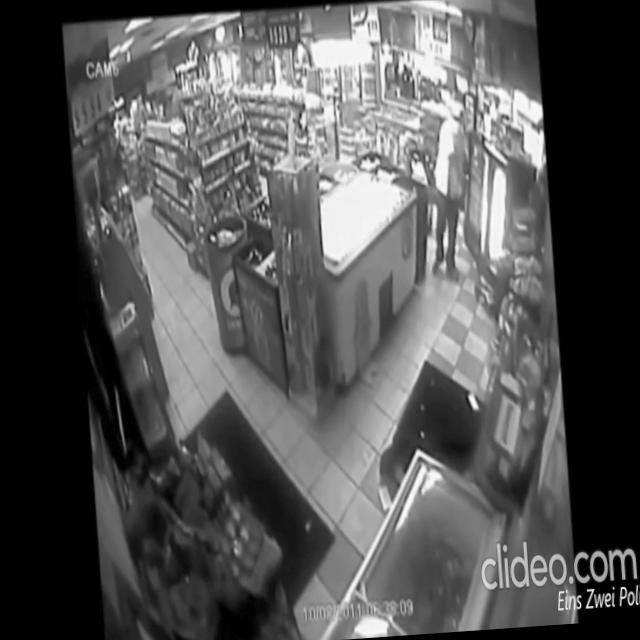gun: (458, 172, 468, 194)
person with a gun: (418, 99, 480, 284)
